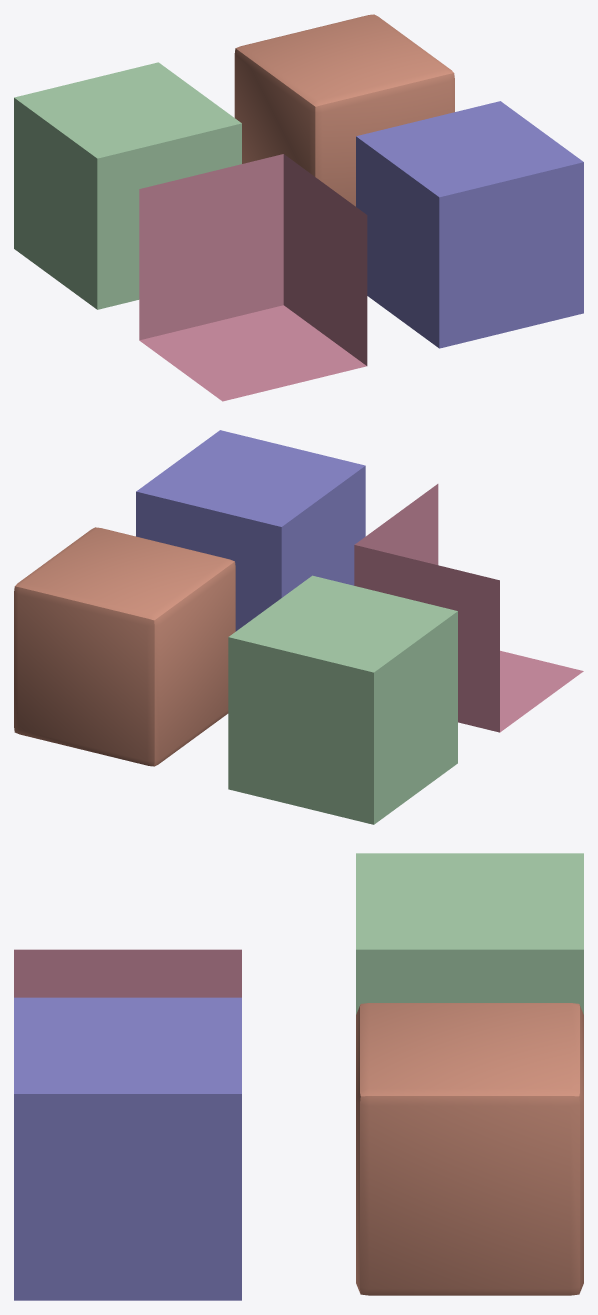
The model's file is test_matprops.dae.
3 renders of one model, top to bottom at view 1: azimuth 30°, elevation 25°; view 2: azimuth 150°, elevation 25°; view 3: azimuth 270°, elevation 25°, orthographic. The views are drawn at different scales.
Visible parts, largest first — view 1: Cube_002, Cube_003, Cube, Cube_001; view 2: Cube, Cube_001, Cube_003, Cube_002; view 3: Cube_003, Cube_001, Cube, Cube_002.
Part boxes in pixels (<box>): Cube_002: <box>139,154,367,401</box>; Cube_003: <box>356,101,583,348</box>; Cube: <box>14,62,241,309</box>; Cube_001: <box>234,14,454,206</box>; Cube: <box>228,575,457,824</box>; Cube_001: <box>14,527,235,766</box>; Cube_003: <box>136,430,365,631</box>; Cube_002: <box>354,484,583,732</box>; Cube_003: <box>14,997,241,1300</box>; Cube_001: <box>356,1003,583,1295</box>; Cube: <box>356,853,583,1014</box>; Cube_002: <box>14,949,241,997</box>.
Size of the model in its own units: 5 by 5 by 2.
